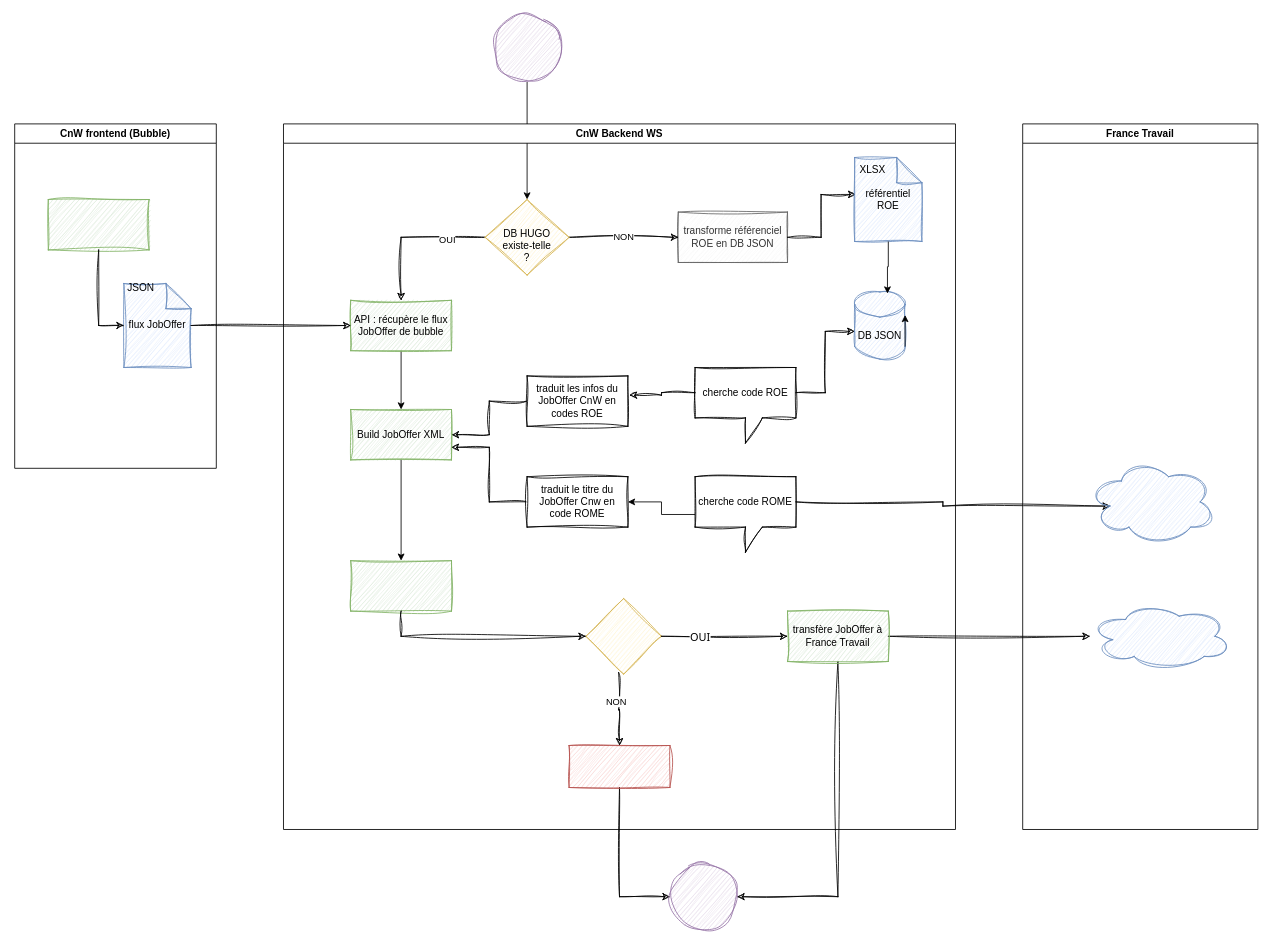
This 1273x945 diagram has some shape labels left out. The centre of each missing label's shape, as x and y in pixels:
API France Travail JTMO: (x=1161, y=636)
API Rrance Travail ROME: (x=1152, y=501)
début: (x=527, y=48)
Envoi flux JobOffer: (x=98, y=224)
FIN: (x=703, y=896)
Log erreur: (x=619, y=766)
Validation XML via XSD: (x=401, y=585)
valide ?: (x=623, y=636)
